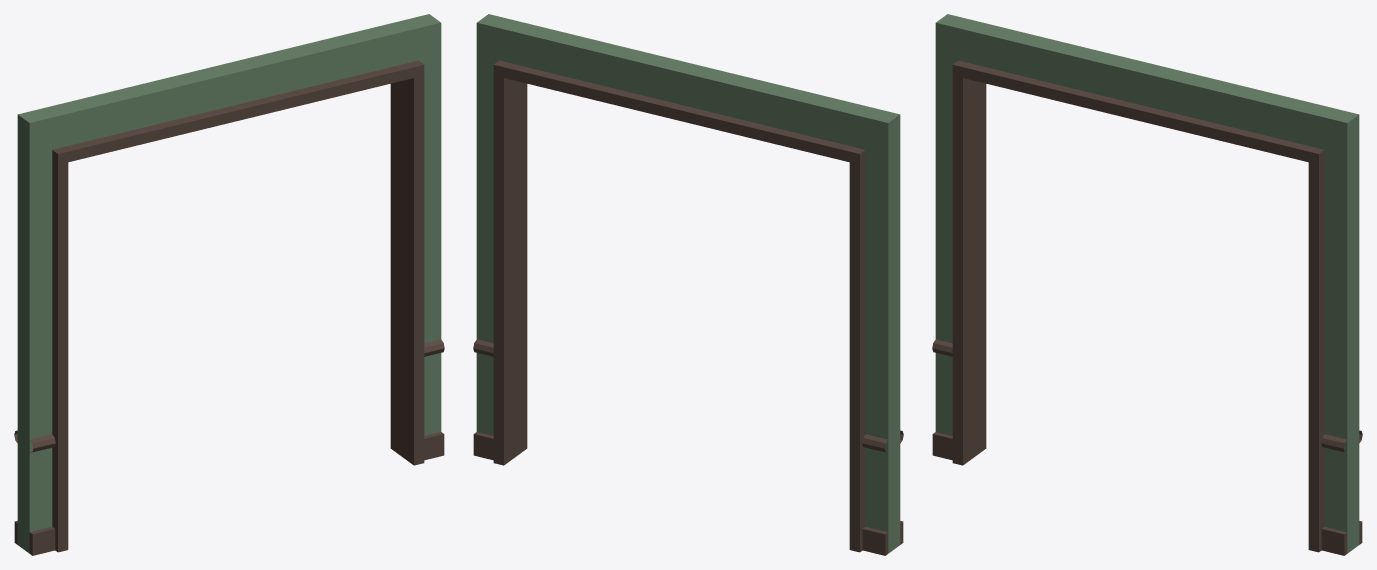
The model's file is h_wall_2_doorFrame2_4.fbx.
3 views of the same model, side by side, from view 1: azimuth 30°, elevation 25°; view 2: azimuth 150°, elevation 25°; view 3: azimuth 330°, elevation 25° (orthographic).
Visible parts, largest first — view 1: Cube; view 2: Cube; view 3: Cube.
Part boxes in pixels (bbox=[...]): Cube: bbox=[14, 14, 444, 555]; Cube: bbox=[473, 14, 903, 555]; Cube: bbox=[932, 14, 1362, 555].
Bounding box in the file's own units: 400 × 400 × 39.37.
